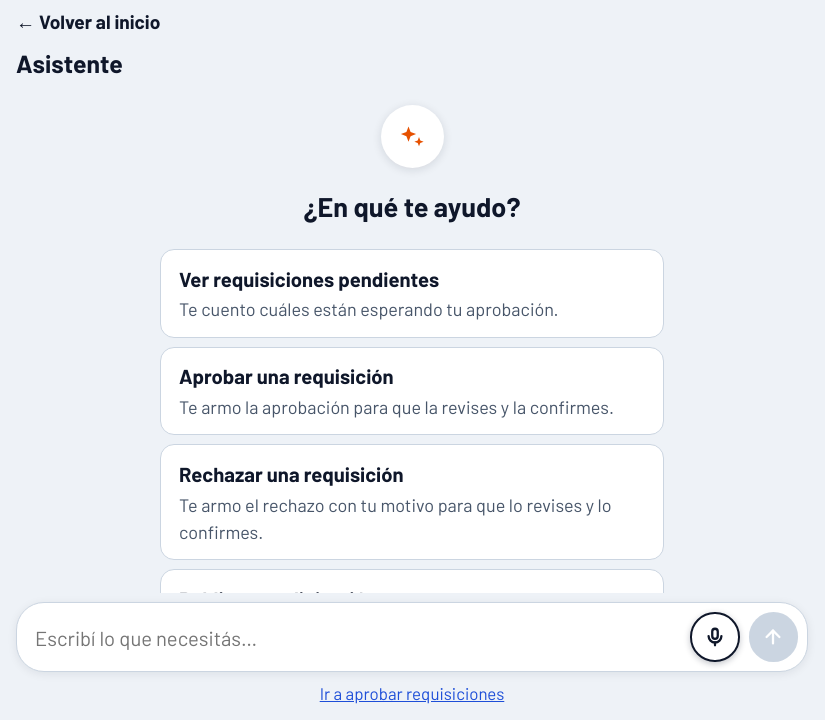
Test case: AsistenteChatPage en el portal de Compras › el texto del asistente se muestra siempre como texto, nunca como HTML (#174)
Click the button "Ver requisiciones pendientes" at (412, 294), box [160, 249, 664, 338]
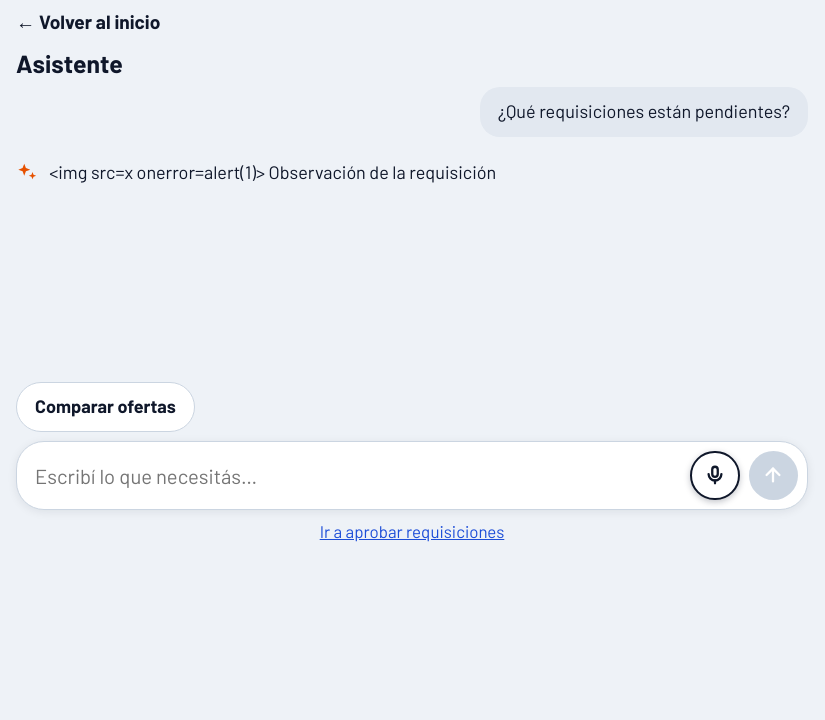
Result: the text "<img src=x onerror=alert(1)> Observación de la requisición" is shown at [49, 161, 496, 183]
